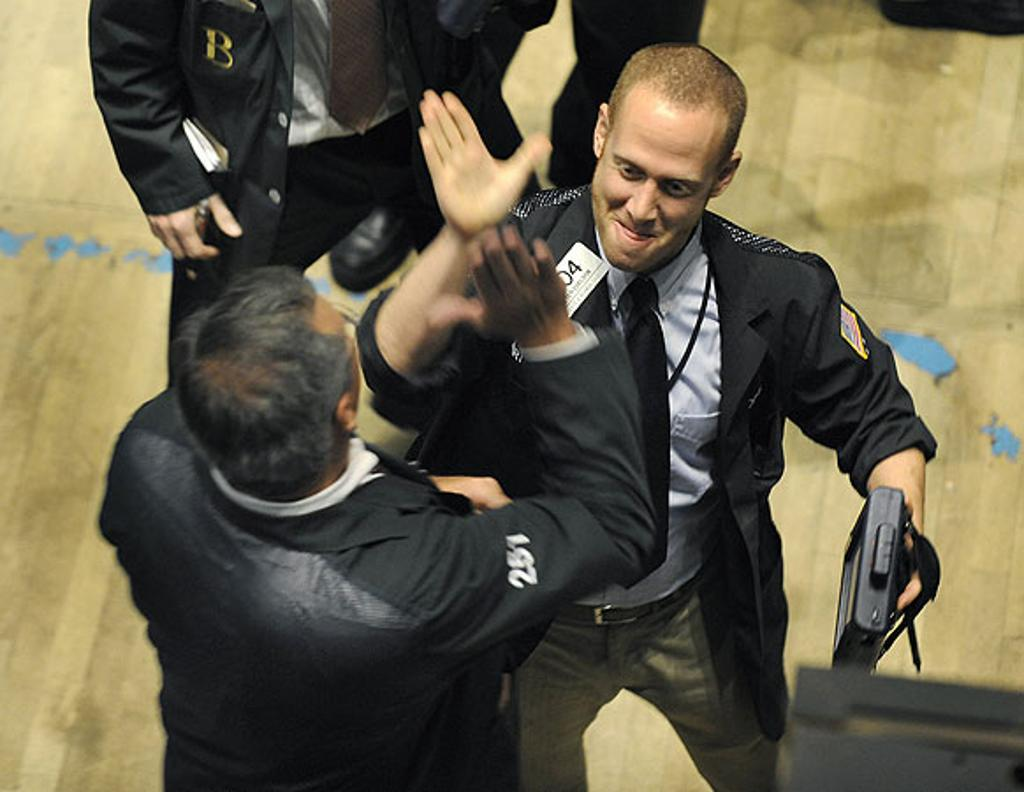face: (595, 105, 705, 269)
